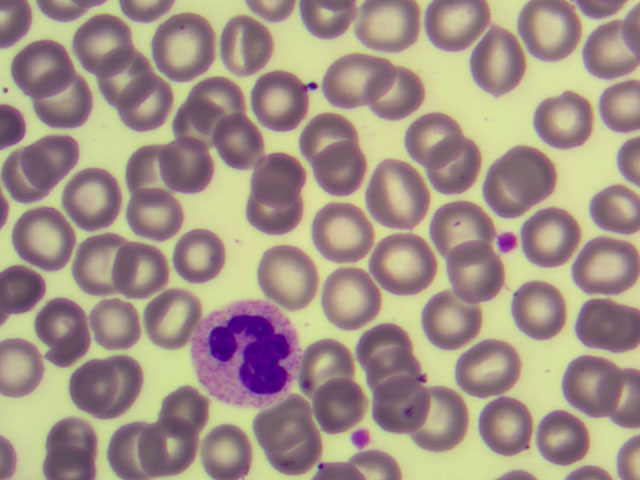Platelets: (498, 232, 520, 255), (352, 428, 372, 451)
RBC: (154, 11, 216, 79), (13, 205, 75, 268), (509, 279, 571, 342), (577, 234, 639, 297), (561, 353, 623, 416), (458, 333, 520, 396), (403, 384, 465, 447), (368, 371, 430, 434), (430, 201, 492, 264), (516, 207, 578, 270), (374, 234, 436, 297), (312, 200, 374, 263), (257, 242, 319, 305), (318, 263, 380, 326), (421, 285, 483, 348), (367, 159, 429, 222), (324, 44, 386, 107), (467, 32, 529, 95), (532, 87, 594, 150), (497, 141, 559, 204), (520, 1, 582, 63), (477, 392, 534, 452), (141, 413, 198, 473), (301, 335, 355, 396), (446, 244, 502, 302), (313, 378, 368, 436), (264, 415, 318, 472), (99, 46, 153, 103), (108, 422, 160, 480), (359, 320, 412, 376), (67, 357, 123, 410), (362, 342, 418, 394), (407, 111, 460, 165), (174, 95, 227, 149), (160, 135, 213, 189), (121, 142, 174, 196), (69, 174, 122, 228), (71, 235, 124, 289), (113, 242, 166, 296), (90, 292, 143, 346), (145, 287, 198, 341), (177, 227, 230, 281), (250, 179, 303, 233), (252, 149, 305, 203), (222, 18, 275, 72), (254, 72, 307, 126), (551, 49, 604, 103), (79, 15, 132, 69), (38, 77, 91, 131), (14, 40, 67, 94), (28, 130, 81, 184), (4, 145, 57, 199), (584, 21, 637, 75), (367, 62, 420, 116), (118, 77, 171, 131), (593, 364, 639, 426), (365, 1, 418, 54), (434, 1, 487, 54), (126, 187, 180, 239), (1, 266, 52, 320), (591, 180, 640, 235), (304, 113, 355, 164), (203, 426, 251, 480), (255, 401, 306, 451), (317, 141, 369, 190), (43, 417, 96, 465), (1, 336, 44, 395), (219, 113, 265, 167), (576, 297, 620, 352), (540, 412, 586, 463), (599, 81, 640, 135), (36, 446, 99, 480), (44, 319, 90, 364), (596, 302, 639, 348), (303, 1, 354, 39), (342, 451, 402, 480), (33, 296, 80, 333), (1, 1, 34, 49), (115, 355, 143, 411), (609, 130, 640, 180), (307, 452, 362, 480), (552, 456, 616, 480), (610, 433, 639, 480), (1, 96, 26, 146), (122, 1, 172, 24), (619, 1, 639, 54), (576, 1, 628, 21), (38, 1, 89, 20), (249, 1, 299, 20)
WBC: (196, 300, 302, 404)
